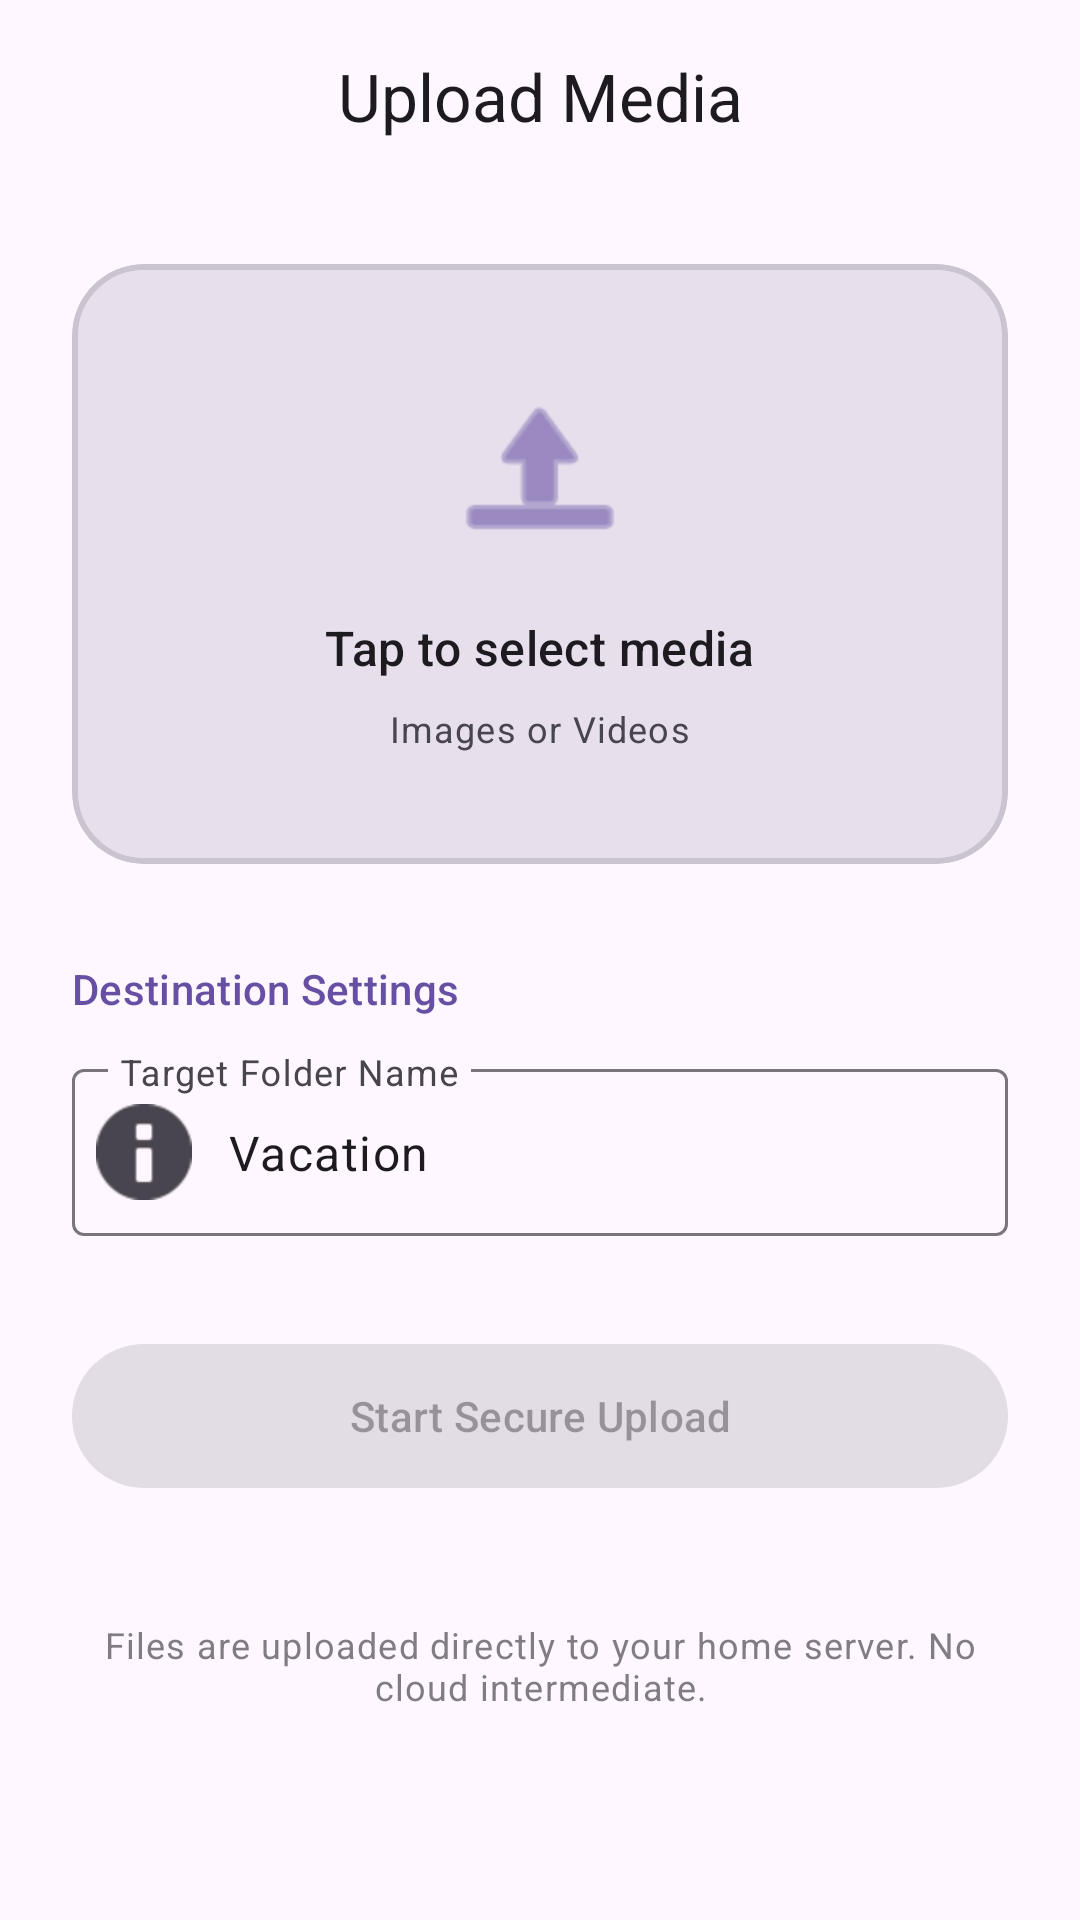

Screen size 1080×1920. Icon name, then its box in pixels as (x1, y1, x2, y2):
upload: (466, 408, 614, 529)
